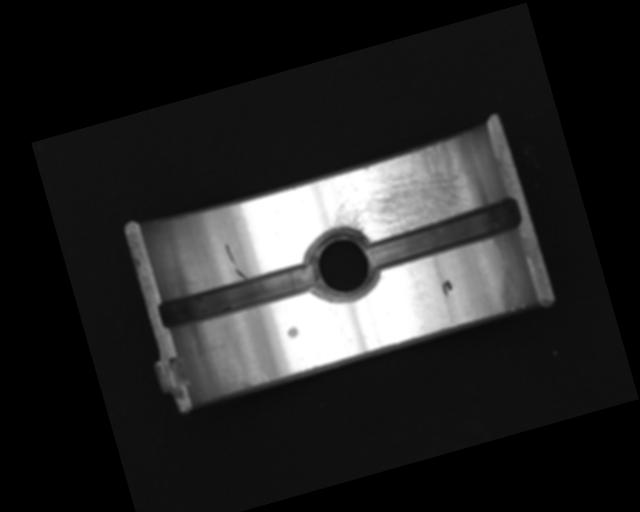blot: (439, 278, 454, 297)
bruise: (286, 325, 300, 340)
gap: (155, 258, 320, 334), (362, 197, 525, 273)
hole: (298, 219, 385, 310)
nick: (223, 241, 247, 285)
scratch: (316, 137, 478, 253)
